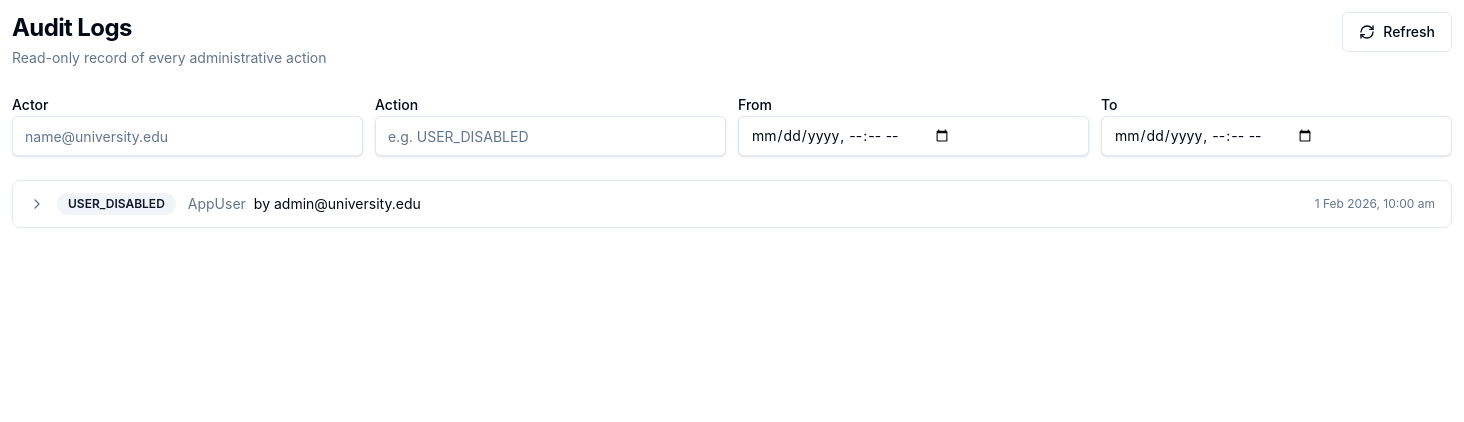
Scenario: AuditLogsPage › keeps the payload collapsed until the entry is expanded
Expected: the text "USER_DISABLED" is shown, x1=57 y1=193 x2=176 y2=215
Expected: the text "Correlation ID" is not shown
Click the button that starts with "USER_DISABLED": (116, 204) x1=13 y1=181 x2=1451 y2=227
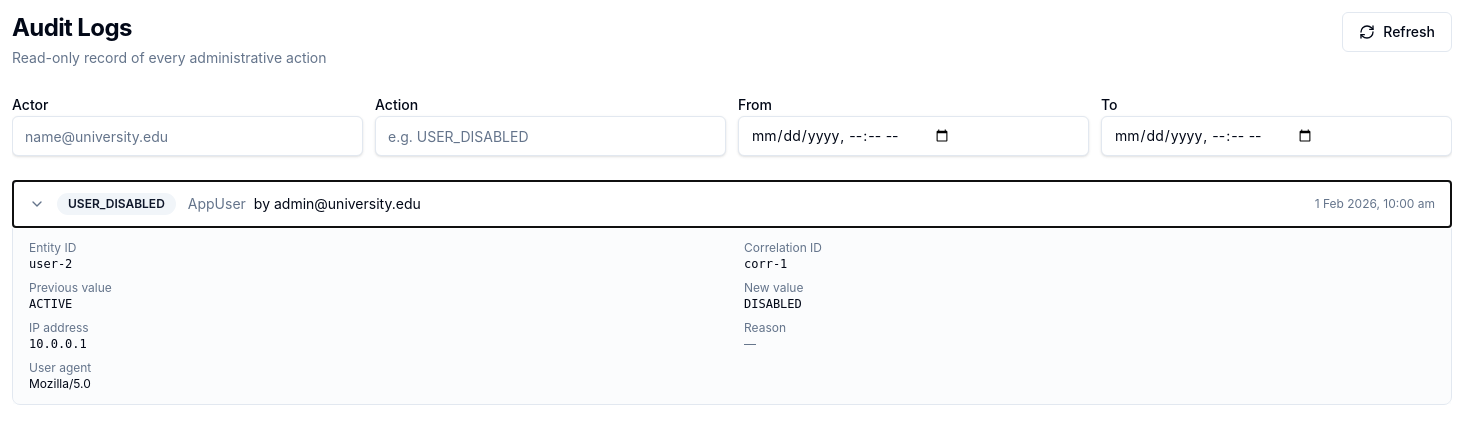
Result: the text "Correlation ID" is shown at x1=744 y1=240 x2=822 y2=255
Result: the text "corr-1" is shown at x1=744 y1=257 x2=787 y2=271
Result: the text "DISABLED" is shown at x1=744 y1=297 x2=802 y2=311
